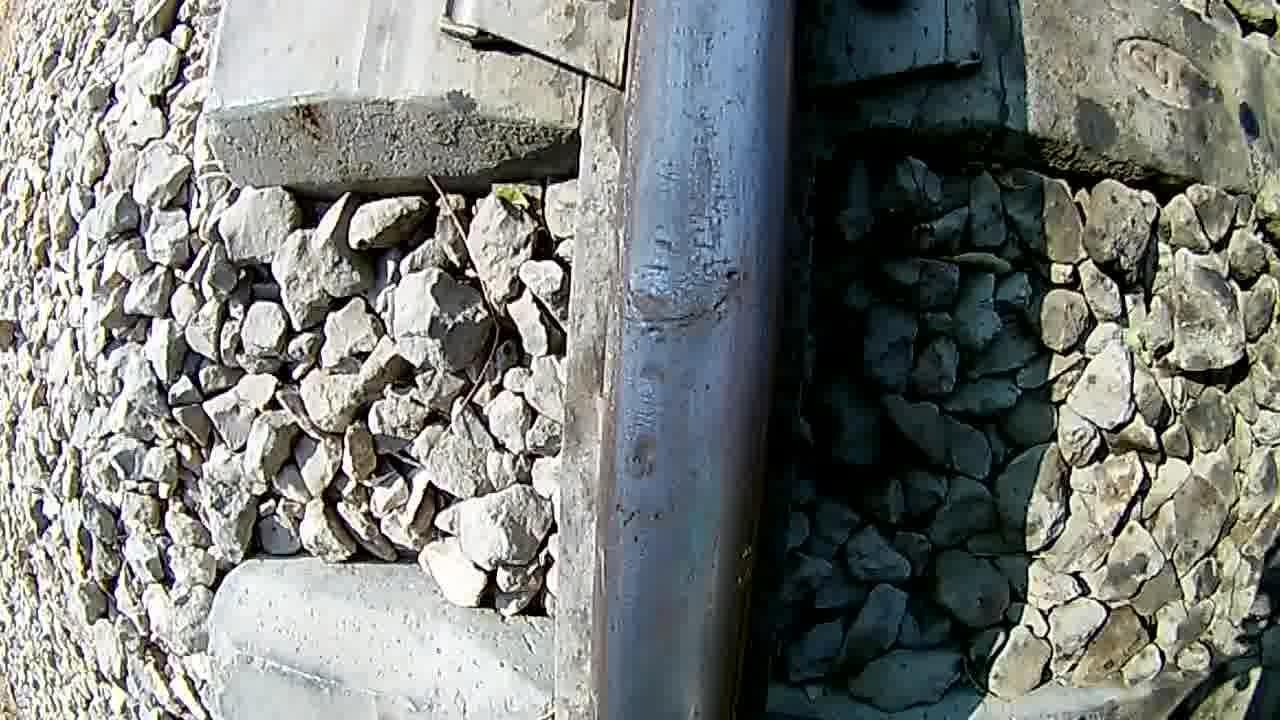crack: (602, 1, 761, 720)
